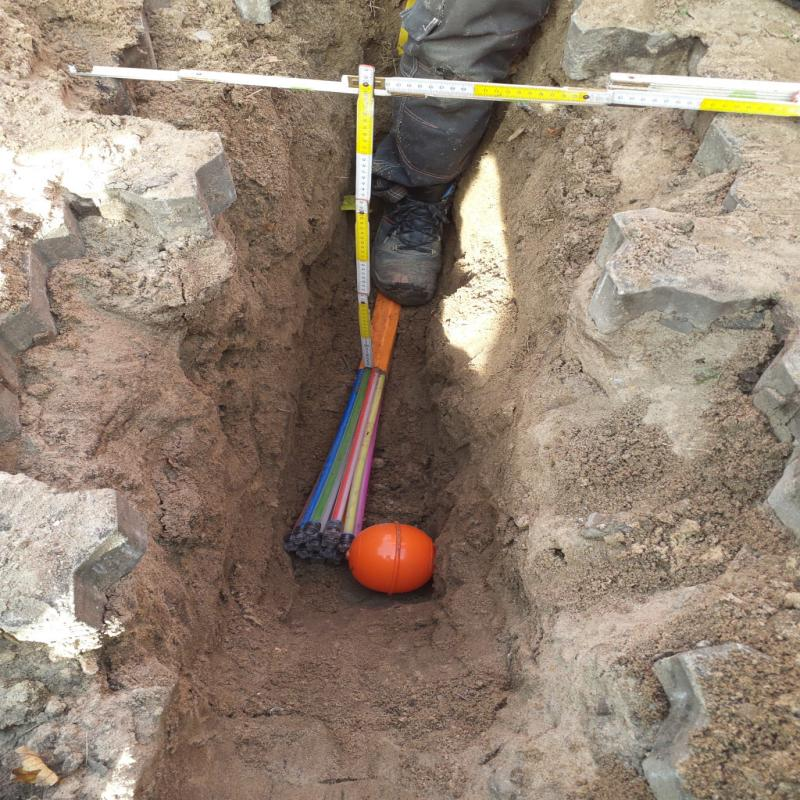Kugelmarker: (347, 523, 434, 594)
Orang-Speednetrohrchen: (284, 290, 401, 566)
